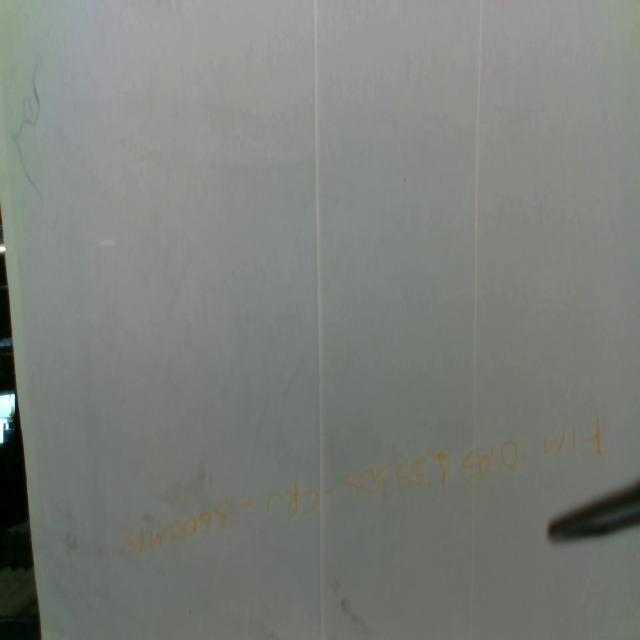crease: (312, 1, 327, 640), (469, 0, 485, 597)
